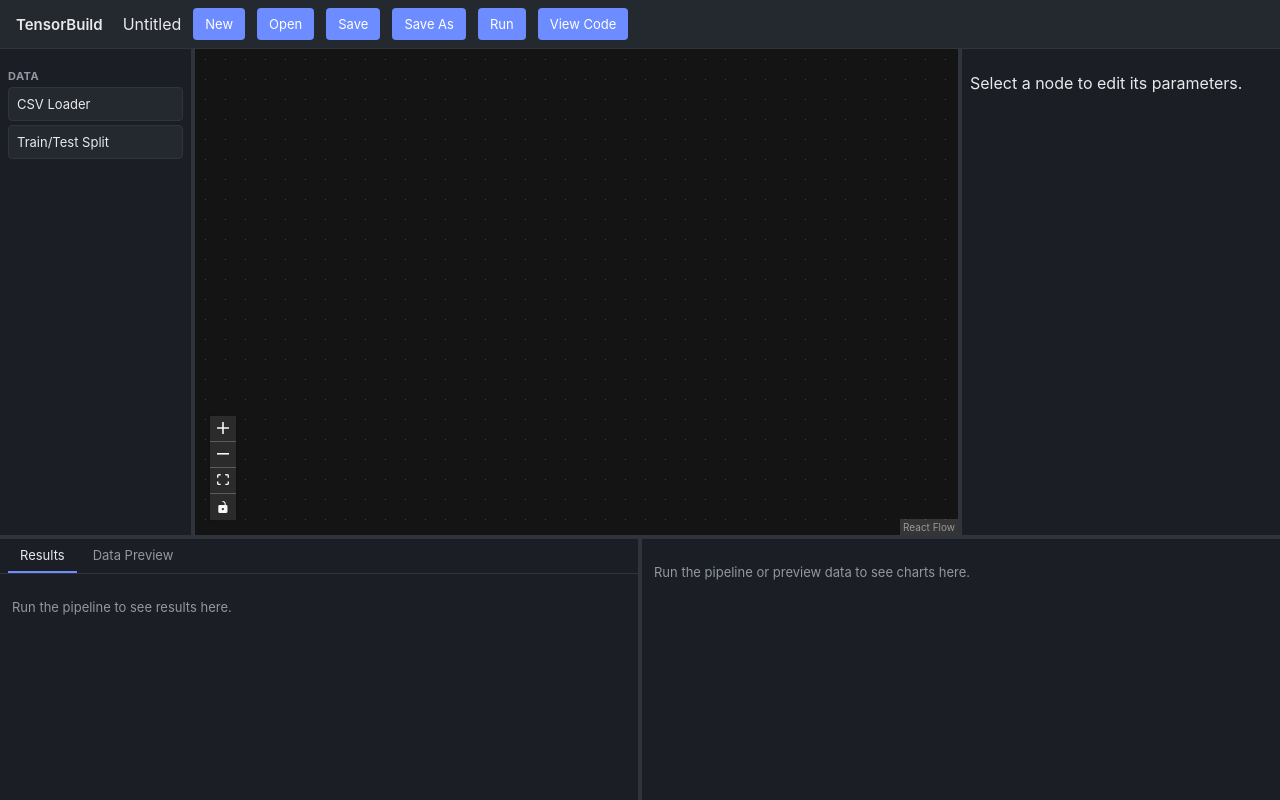
Test: App integration — async training run (real client.ts + hooks, WS stubbed) › opens a WebSocket to /ws/runs/{run_id} and shows training status in the visualizations panel when the engine returns 202
The width and height of the screenshot is (1280, 800).
Expected: the text "CSV Loader" is shown, left=8, top=87, right=183, bottom=121
What coordinates should you click on to do the following:
click the button "Run"
I would click on:
 (502, 24)
Its box is left=478, top=8, right=526, bottom=40.
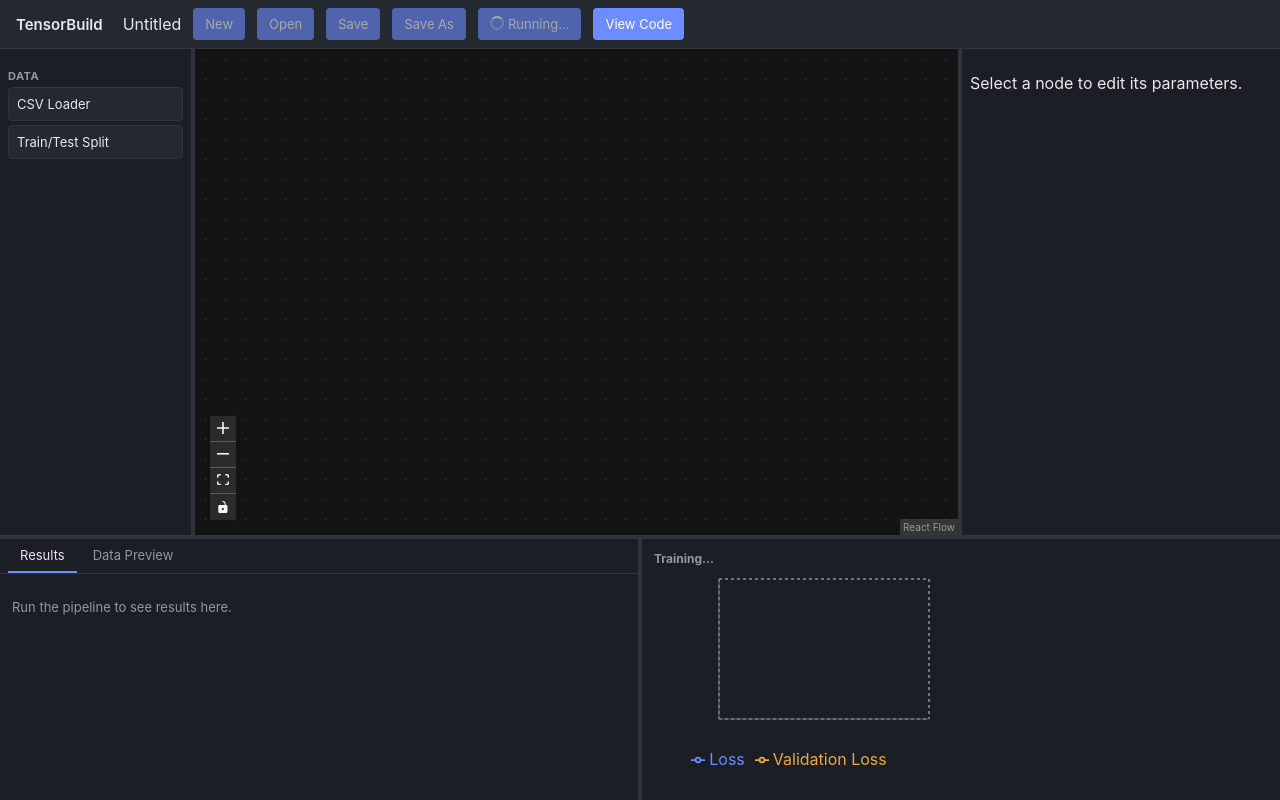
Expected: the heading "Training…" is shown, left=654, top=550, right=714, bottom=566
